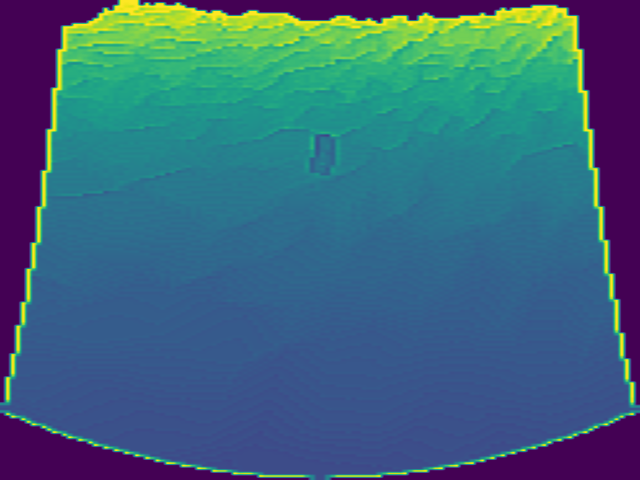car_0198: (308, 132, 336, 175)
